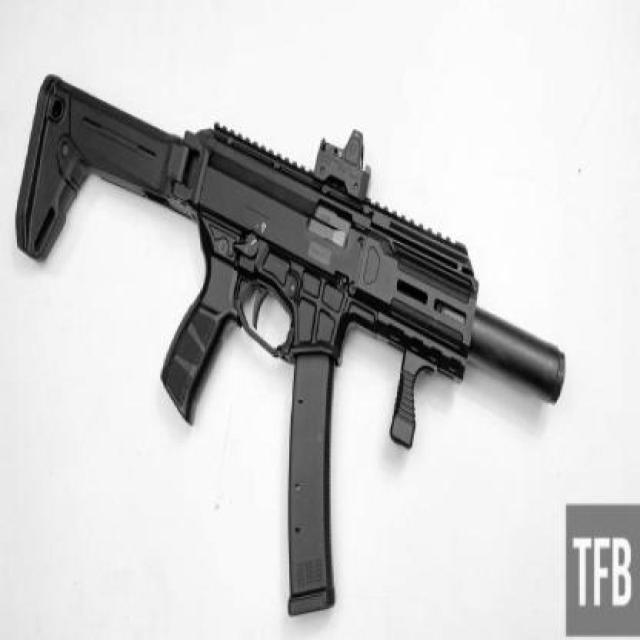weapon: (14, 72, 568, 622)
